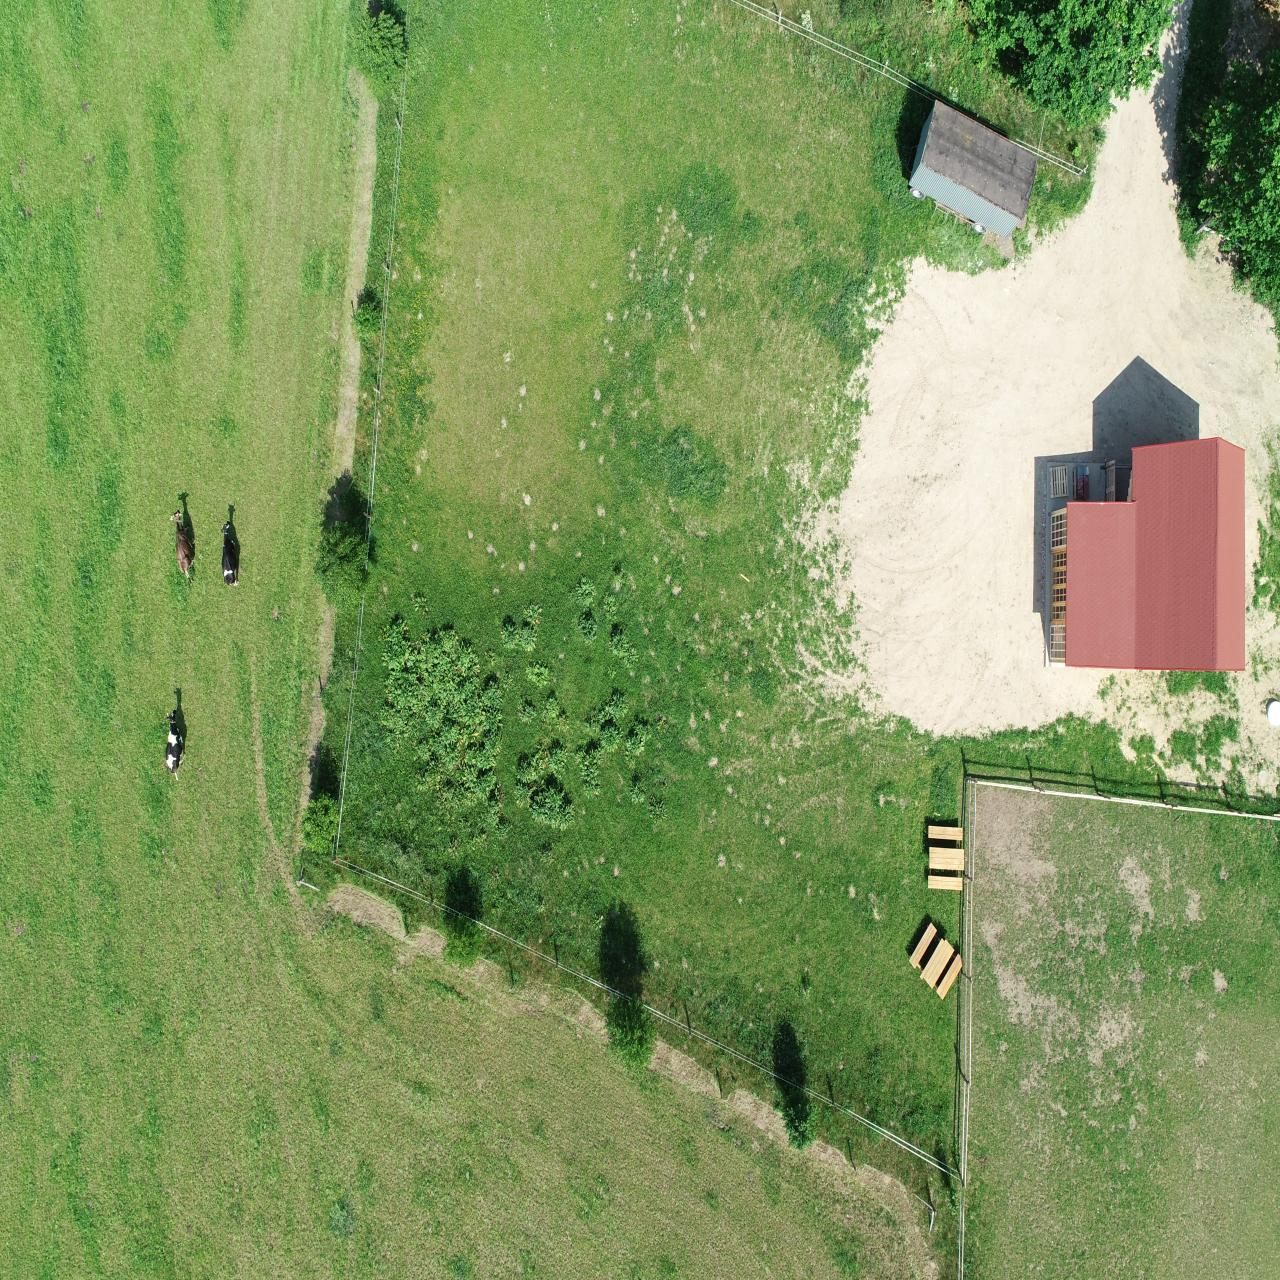cow: (161, 706, 191, 783), (169, 508, 198, 586), (218, 519, 239, 588)
